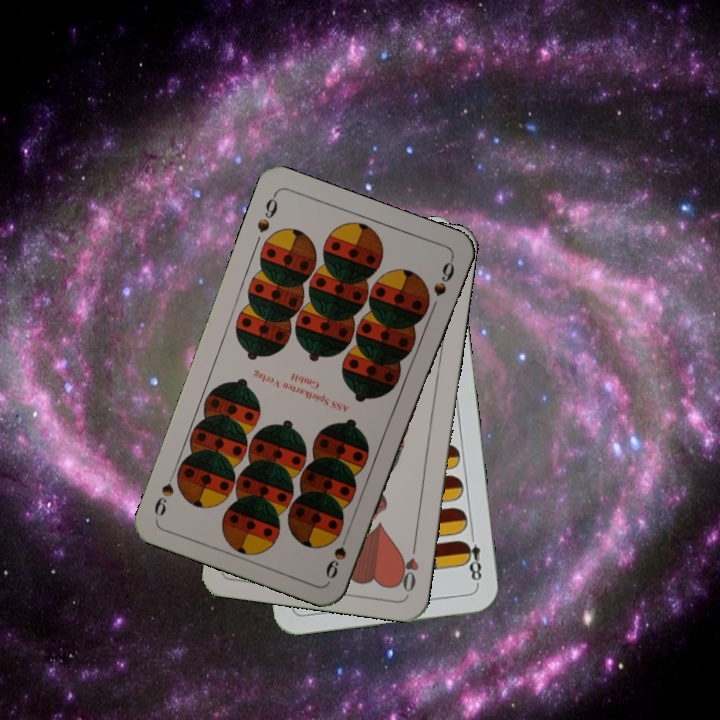E8: (459, 529, 484, 588)
HO: (395, 537, 421, 595)
S9: (253, 189, 280, 235), (321, 539, 349, 582)
